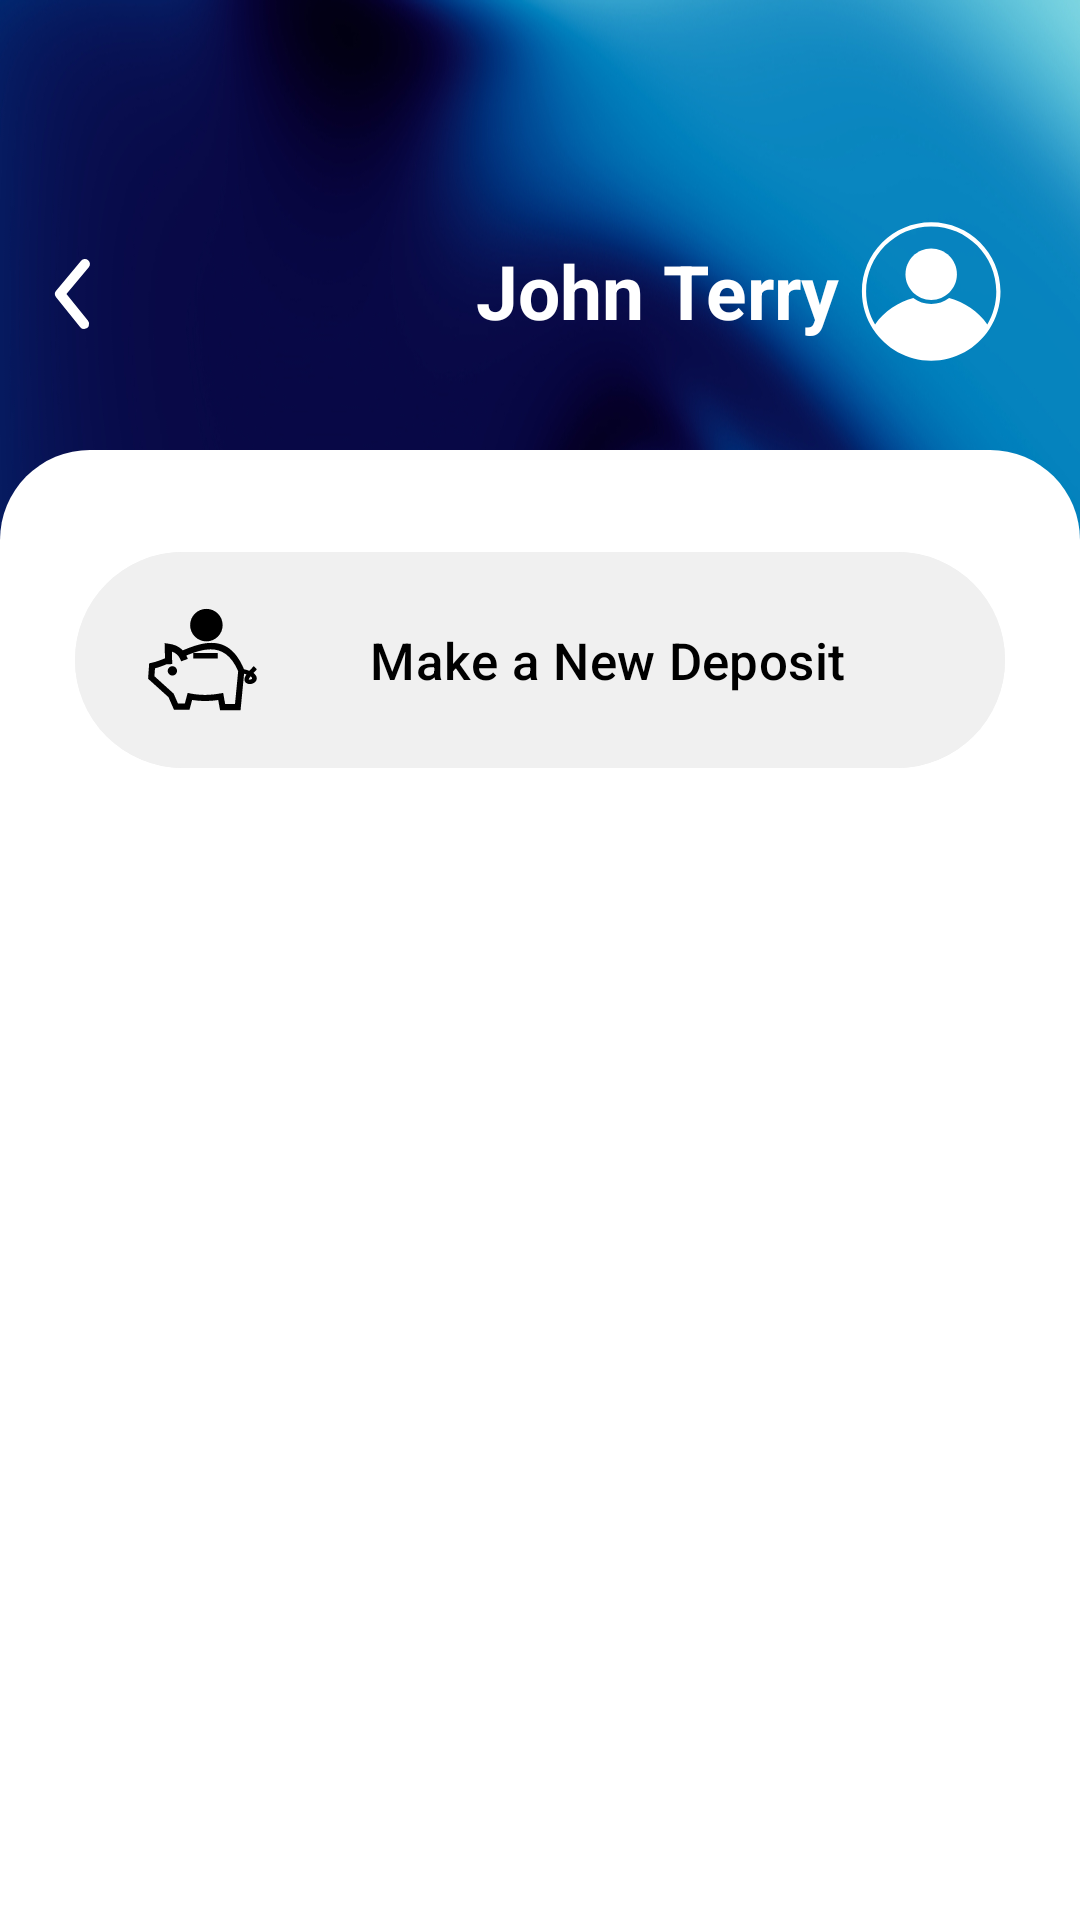

Icon bounding boxes for this 1080*1920 phone screenshot, format (x1, y1, x2, y2):
back arrow: (54, 259, 90, 329)
profile picture round: (862, 222, 1001, 361)
